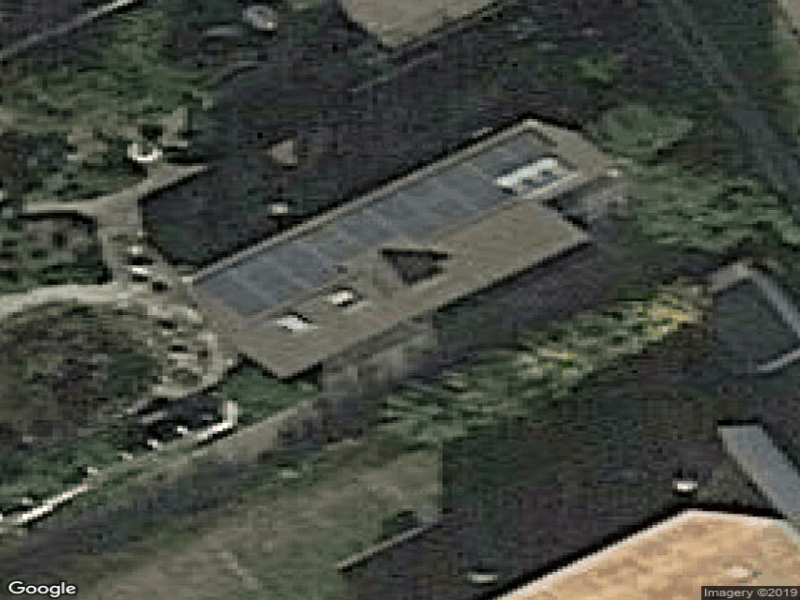pv: (199, 132, 572, 323)
